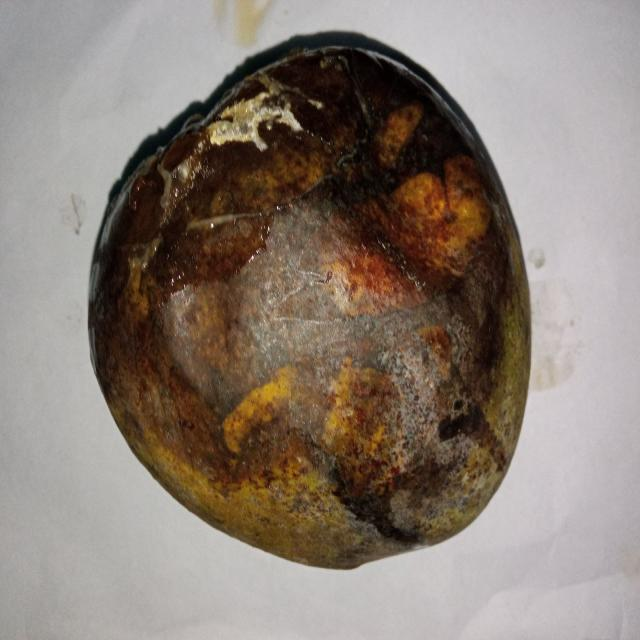rotten_mango: (86, 40, 531, 574)
